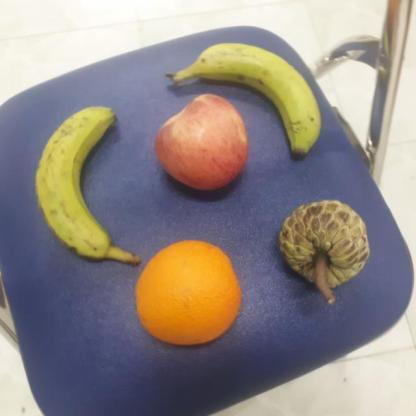annona: (274, 198, 374, 290)
apple: (148, 93, 246, 194)
banana: (31, 105, 138, 269), (181, 39, 323, 161)
orange: (132, 240, 242, 350)
